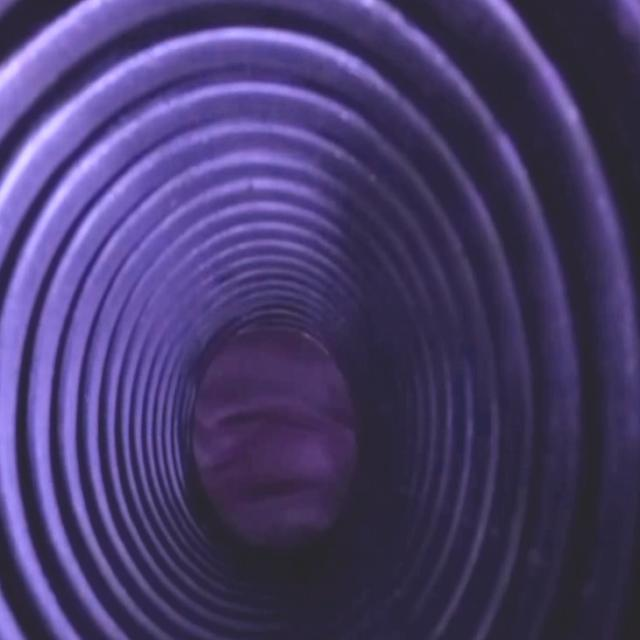block: (183, 323, 350, 556)
